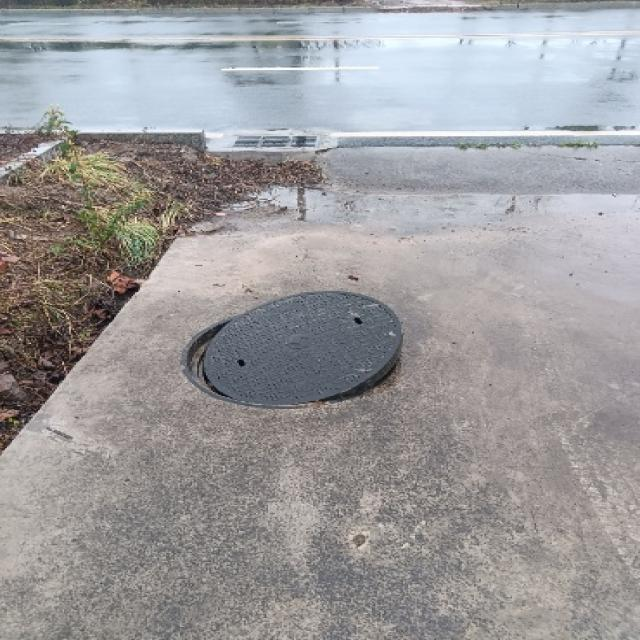Lose: (172, 284, 436, 412)
